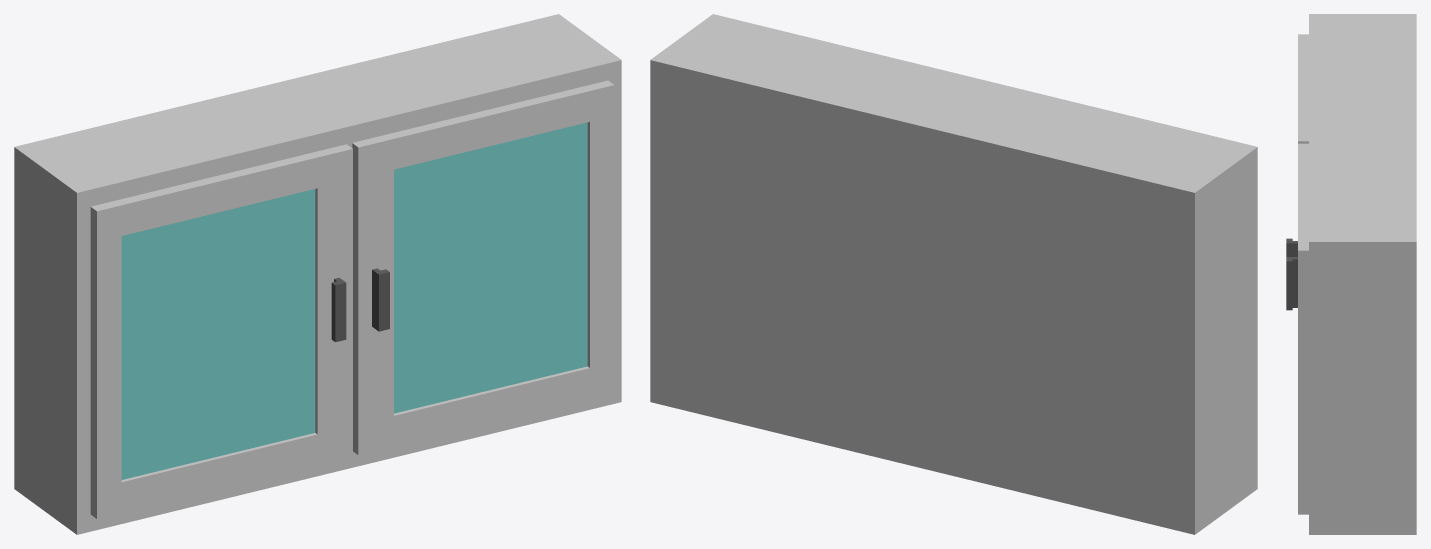
The model's file is Mirror Cabinet.fbx.
3 views of the same model, side by side, from view 1: azimuth 30°, elevation 25°; view 2: azimuth 150°, elevation 25°; view 3: azimuth 270°, elevation 25° (orthographic). The views are drawn at different scales.
Parts seen in each view (by area): view 1: Left Door, Right Door, Mirror Cabinet; view 2: Mirror Cabinet; view 3: Mirror Cabinet, Right Door, Left Door.
Boxes of the visible parts, x1,y1,x2,y2 form: Left Door: [90, 144, 352, 518]; Right Door: [352, 80, 614, 455]; Mirror Cabinet: [14, 14, 621, 534]; Mirror Cabinet: [650, 14, 1257, 534]; Mirror Cabinet: [1309, 14, 1416, 534]; Right Door: [1286, 143, 1308, 514]; Left Door: [1286, 34, 1308, 256].
Bounding box in the file's own units: 1000 × 600 × 242.
